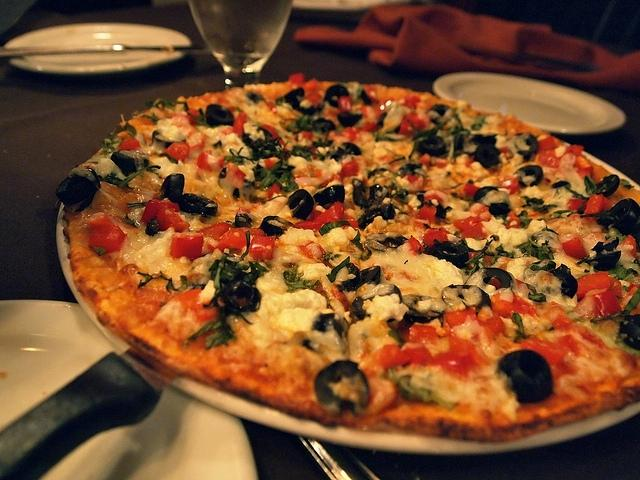tomato: (155, 288, 219, 340), (434, 336, 489, 377), (295, 200, 358, 230), (520, 336, 570, 364), (491, 292, 536, 318), (474, 309, 507, 342), (576, 270, 610, 302), (88, 226, 127, 253), (140, 199, 180, 224), (170, 232, 203, 261), (401, 342, 439, 367), (372, 344, 410, 369), (156, 206, 191, 232), (583, 193, 612, 221), (592, 290, 622, 317), (397, 324, 437, 344), (194, 222, 233, 242), (444, 306, 476, 329), (398, 111, 426, 136), (248, 235, 276, 259), (222, 113, 248, 138), (560, 237, 588, 259), (163, 141, 190, 163), (557, 334, 581, 357), (297, 241, 326, 260), (338, 160, 359, 184), (558, 144, 584, 162), (423, 228, 448, 246), (461, 222, 488, 238), (300, 77, 320, 98), (220, 230, 246, 246), (619, 235, 637, 258), (340, 126, 363, 142), (418, 205, 437, 224), (502, 176, 520, 196), (576, 156, 593, 177), (538, 154, 560, 170), (552, 316, 576, 330), (408, 234, 424, 255), (197, 150, 212, 171), (566, 198, 588, 212), (504, 210, 520, 229), (116, 138, 140, 150), (536, 136, 556, 150), (364, 84, 378, 104), (464, 182, 481, 198), (232, 170, 246, 189), (260, 124, 278, 138), (402, 96, 421, 108), (290, 72, 304, 88), (338, 96, 351, 113), (268, 181, 280, 199), (419, 153, 432, 169), (264, 158, 280, 170), (363, 122, 378, 132), (300, 130, 314, 140), (464, 156, 474, 168), (407, 174, 419, 184), (188, 107, 200, 116), (500, 146, 508, 154)
